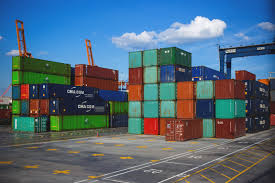container_door: (167, 119, 186, 141)
container_no_door: (195, 98, 216, 120), (215, 98, 233, 119), (214, 119, 235, 137), (176, 100, 194, 119), (216, 79, 233, 99), (141, 49, 159, 67), (142, 117, 160, 135), (177, 82, 194, 101), (195, 81, 214, 98), (142, 100, 159, 119), (126, 67, 143, 85), (160, 83, 177, 101), (143, 83, 158, 101), (127, 100, 142, 118), (159, 101, 175, 117), (128, 118, 143, 135), (128, 52, 143, 67), (143, 67, 158, 82), (126, 85, 141, 100)
